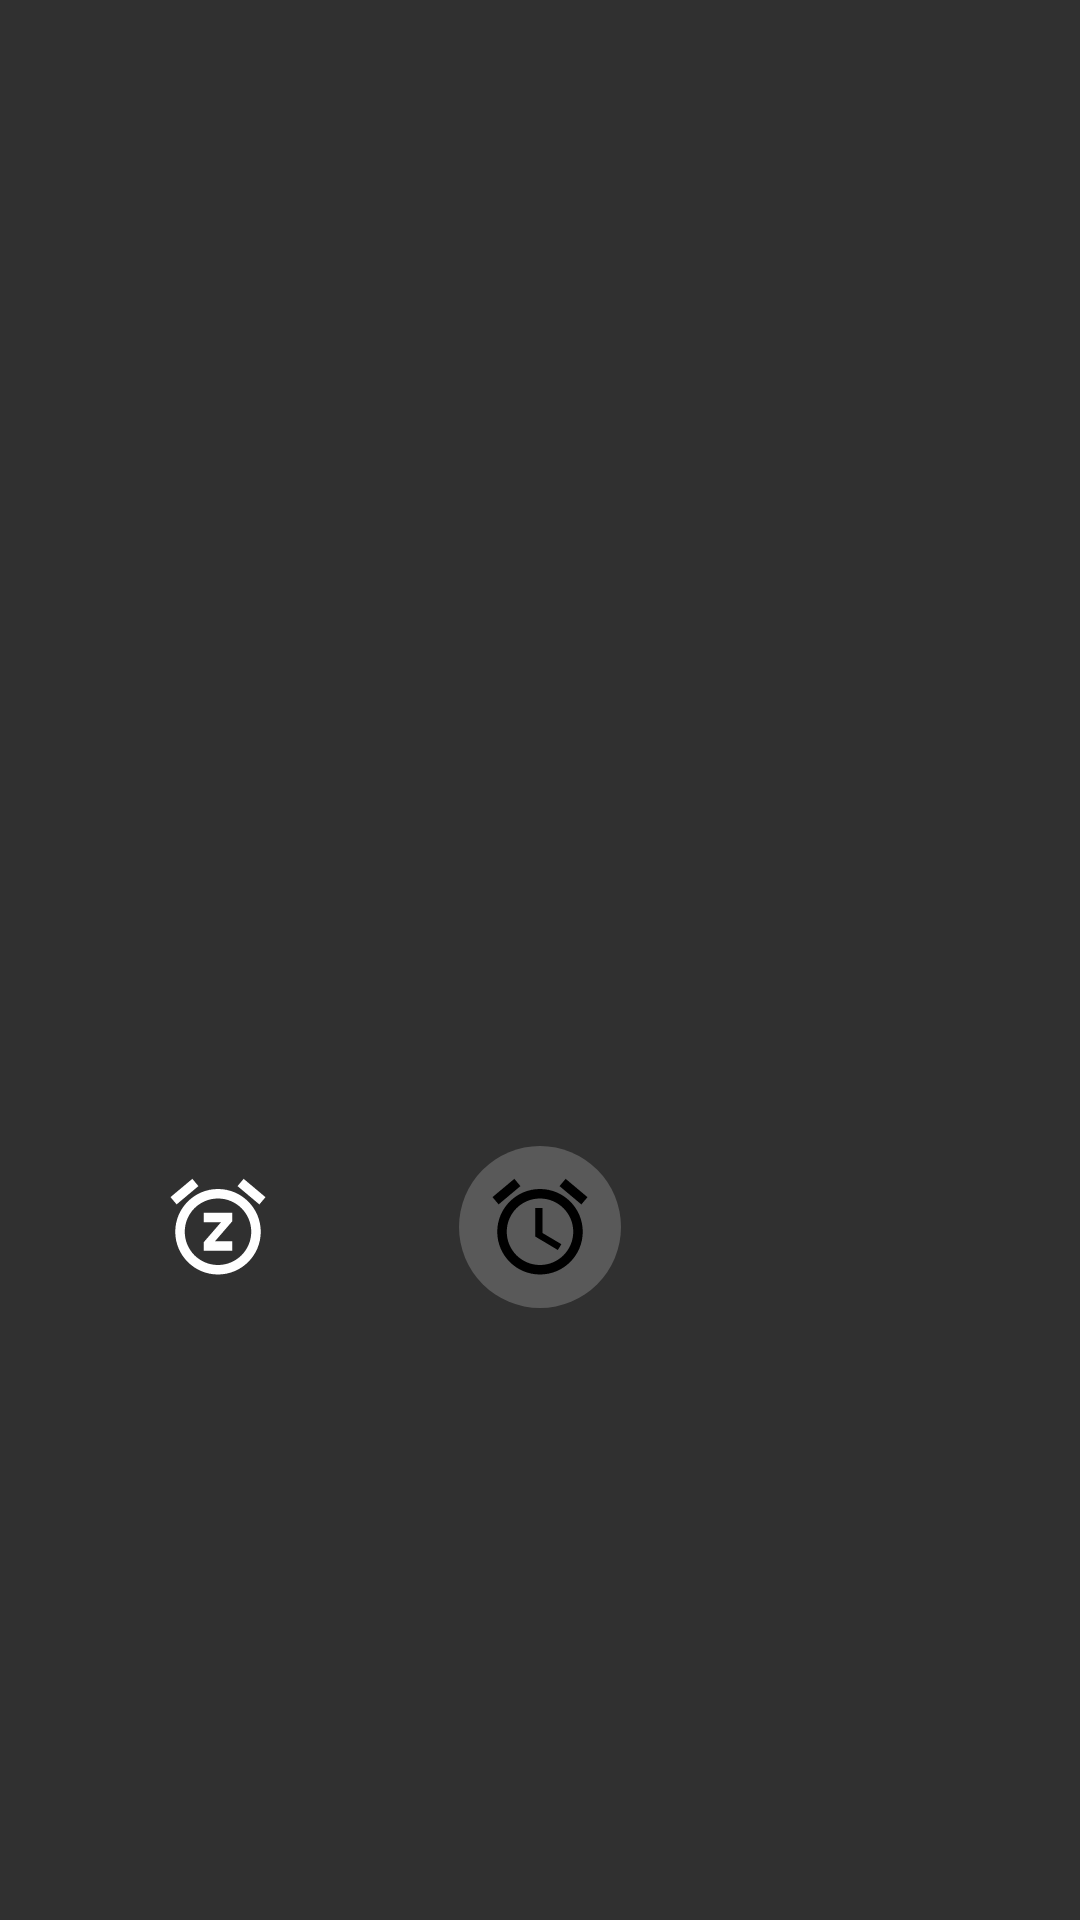

Icons on this 1080*1920 Android screen, each with the point to tap as point (x, y):
alarm: point (540, 1227)
snooze: point (218, 1227)
